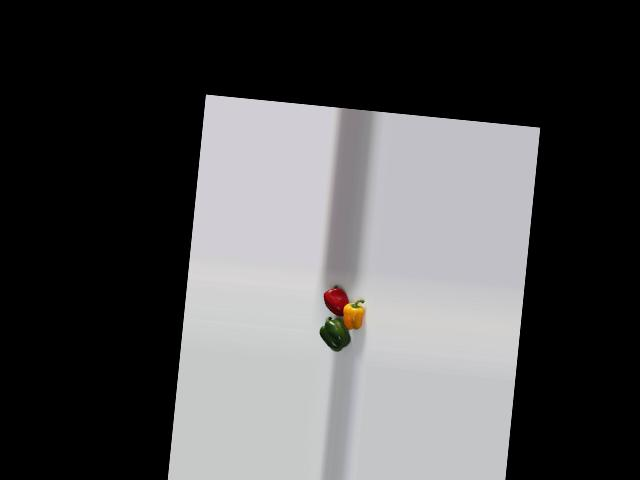bell_pepper: (337, 297, 368, 331)
